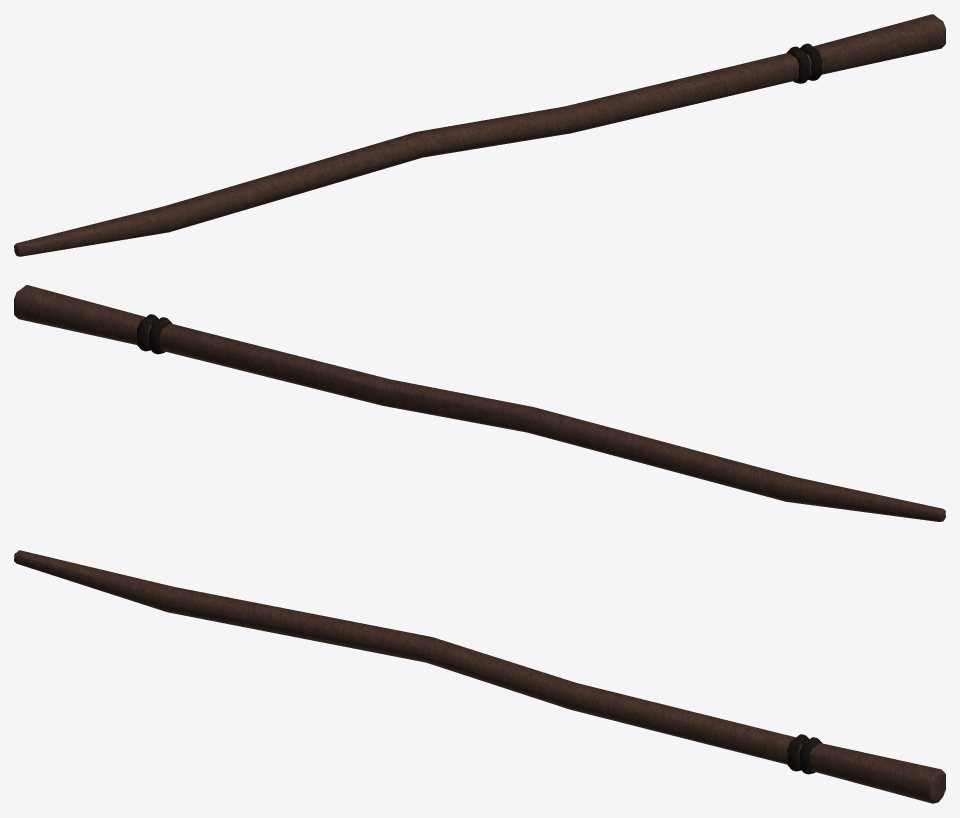
3 views of the same model, one above another, from view 1: azimuth 30°, elevation 25°; view 2: azimuth 150°, elevation 25°; view 3: azimuth 330°, elevation 25° (orthographic).
Parts seen in each view (by area): view 1: wand_wand_0, wand_rope_0; view 2: wand_wand_0, wand_rope_0; view 3: wand_wand_0, wand_rope_0.
Boxes of the visible parts, x1,y1,x2,y2 form: wand_wand_0: [14, 14, 945, 256]; wand_rope_0: [786, 43, 822, 83]; wand_wand_0: [14, 285, 945, 521]; wand_rope_0: [136, 314, 172, 354]; wand_wand_0: [14, 550, 945, 803]; wand_rope_0: [787, 734, 822, 774].
Size of the model in its own units: 67.03 by 2.56 by 2.2.
2 materials, 2 textured.
